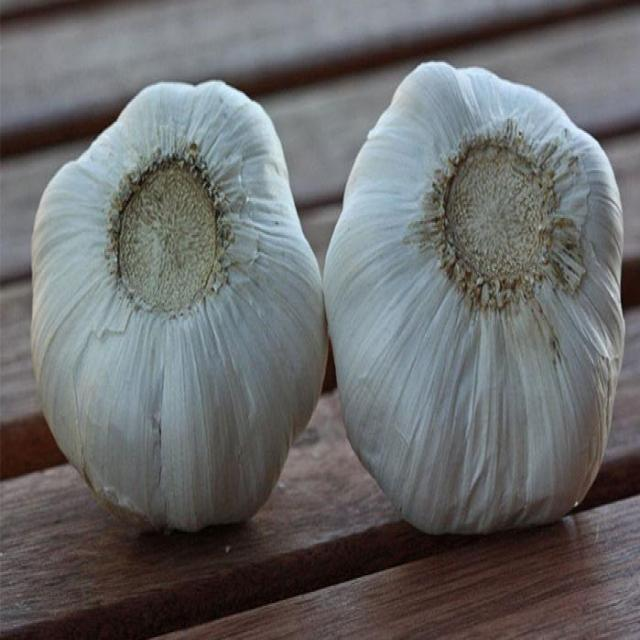garlic: (322, 57, 628, 527), (25, 75, 328, 529)
